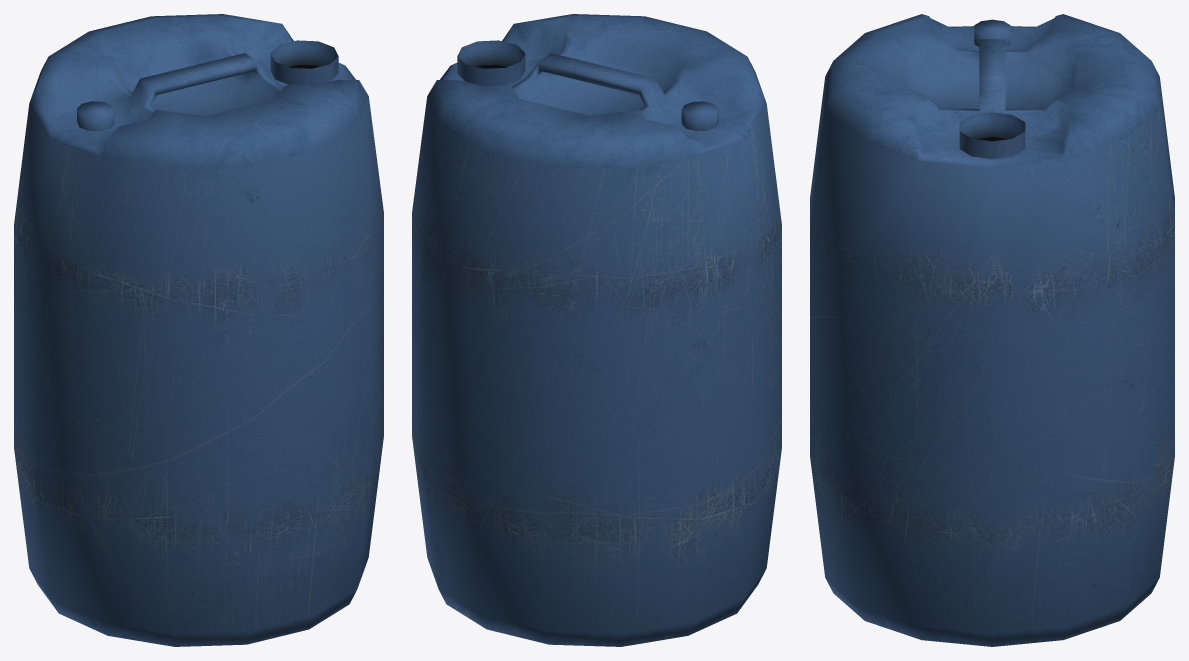
File: WaterTank.fbx
The picture shows the model from 3 angles, left to right: view 1: azimuth 30°, elevation 25°; view 2: azimuth 150°, elevation 25°; view 3: azimuth 270°, elevation 25°; orthographic projection.
Visible parts, largest first — view 1: plastic_barrel; view 2: plastic_barrel; view 3: plastic_barrel.
Boxes of the visible parts, box(x1,y1,x2,y2) form: plastic_barrel: box(14, 14, 383, 646); plastic_barrel: box(412, 14, 781, 646); plastic_barrel: box(810, 14, 1174, 646).
Bounding box in the file's own units: 95.62 × 93.22 × 146.
Materials: 1 (1 with a texture image).
